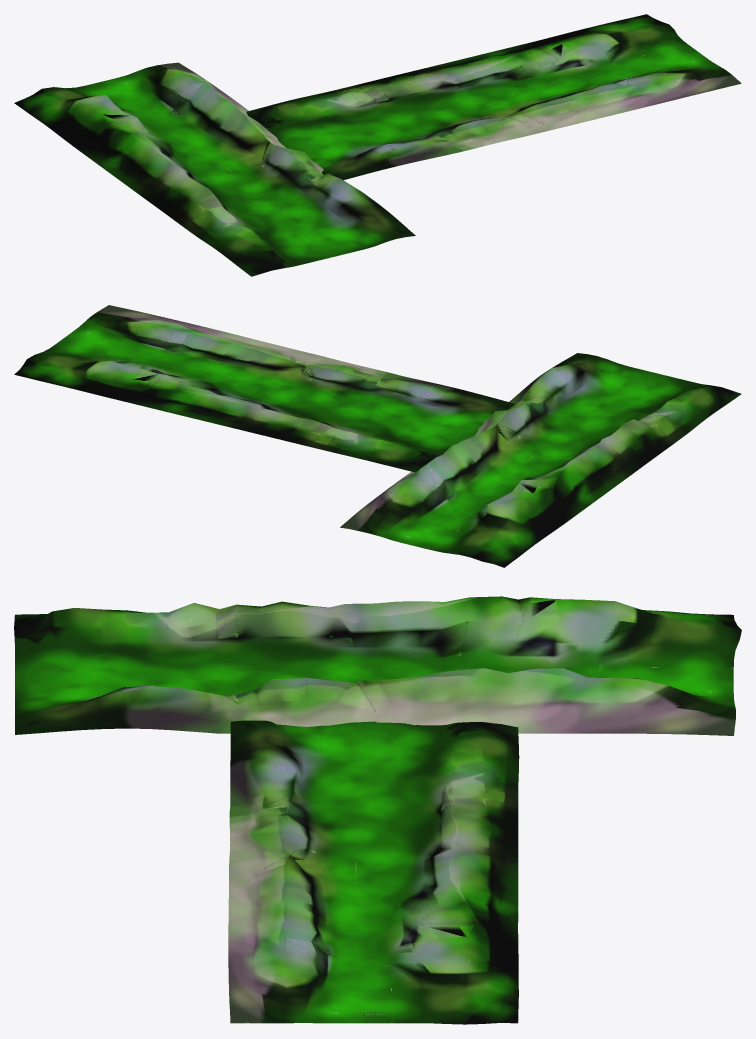
The model's file is M_034.Poc Field.fbx_Scene.fbx.
3 views of the same model, one above another, from view 1: azimuth 30°, elevation 25°; view 2: azimuth 150°, elevation 25°; view 3: azimuth 270°, elevation 25° (orthographic). The views are drawn at different scales.
Visible parts, largest first — view 1: Background hills, Poc Field; view 2: Background hills, Poc Field; view 3: Background hills, Poc Field.
Part boxes in pixels (x1,y1,x2,y2): Background hills: [14, 62, 415, 276]; Poc Field: [246, 14, 741, 180]; Background hills: [340, 353, 741, 567]; Poc Field: [14, 305, 515, 472]; Background hills: [14, 596, 741, 735]; Poc Field: [228, 720, 519, 1024].
Bounding box in the file's own units: 27551 × 1398 × 20254.
